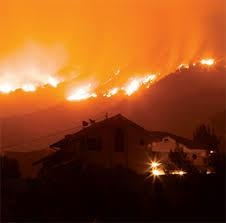fire: (105, 66, 161, 98), (147, 158, 163, 175)
